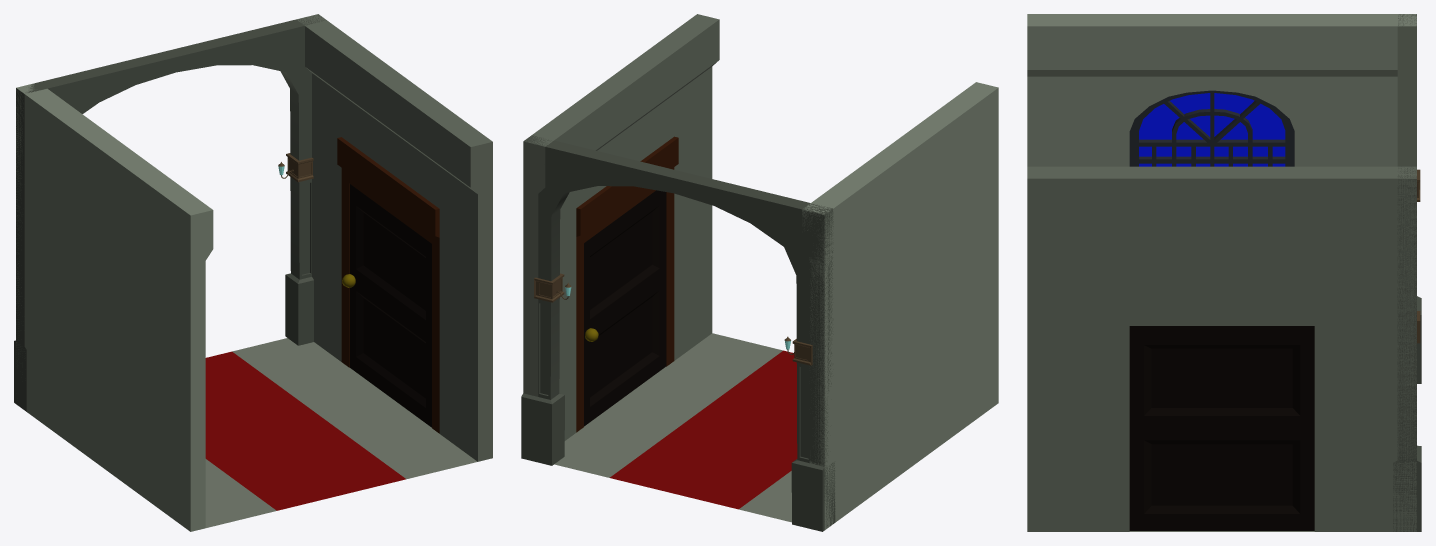
Rendered from Corridor_Door.FBX.
The picture shows the model from 3 angles, left to right: view 1: azimuth 30°, elevation 25°; view 2: azimuth 150°, elevation 25°; view 3: azimuth 270°, elevation 25°; orthographic projection. The views are drawn at different scales.
Parts seen in each view (by area): view 1: WindowSide, DoorSide, Floor, Arch, Door, LightHolderWall; view 2: WindowSide, DoorSide, Floor, Arch, Door, LightHolderWall; view 3: DoorSide, WindowSide, Door, Arch, Glass, Window.
Boxes of the visible parts, x1,y1,x2,y2 form: WindowSide: (16, 83, 213, 531); DoorSide: (296, 14, 492, 461); Floor: (205, 338, 477, 527); Arch: (14, 14, 325, 411); Door: (342, 184, 431, 427); LightHolderWall: (278, 153, 313, 182); WindowSide: (802, 82, 998, 529); DoorSide: (523, 14, 719, 440); Floor: (554, 333, 797, 522); Arch: (521, 135, 835, 531); Door: (584, 190, 666, 426); LightHolderWall: (534, 273, 812, 365); DoorSide: (1027, 166, 1416, 531); WindowSide: (1027, 14, 1416, 166); Door: (1129, 326, 1314, 530); Arch: (1393, 14, 1421, 531); Glass: (1139, 93, 1285, 166); Window: (1129, 90, 1294, 166).
Size of the model in its own units: 100 by 100 by 101.
